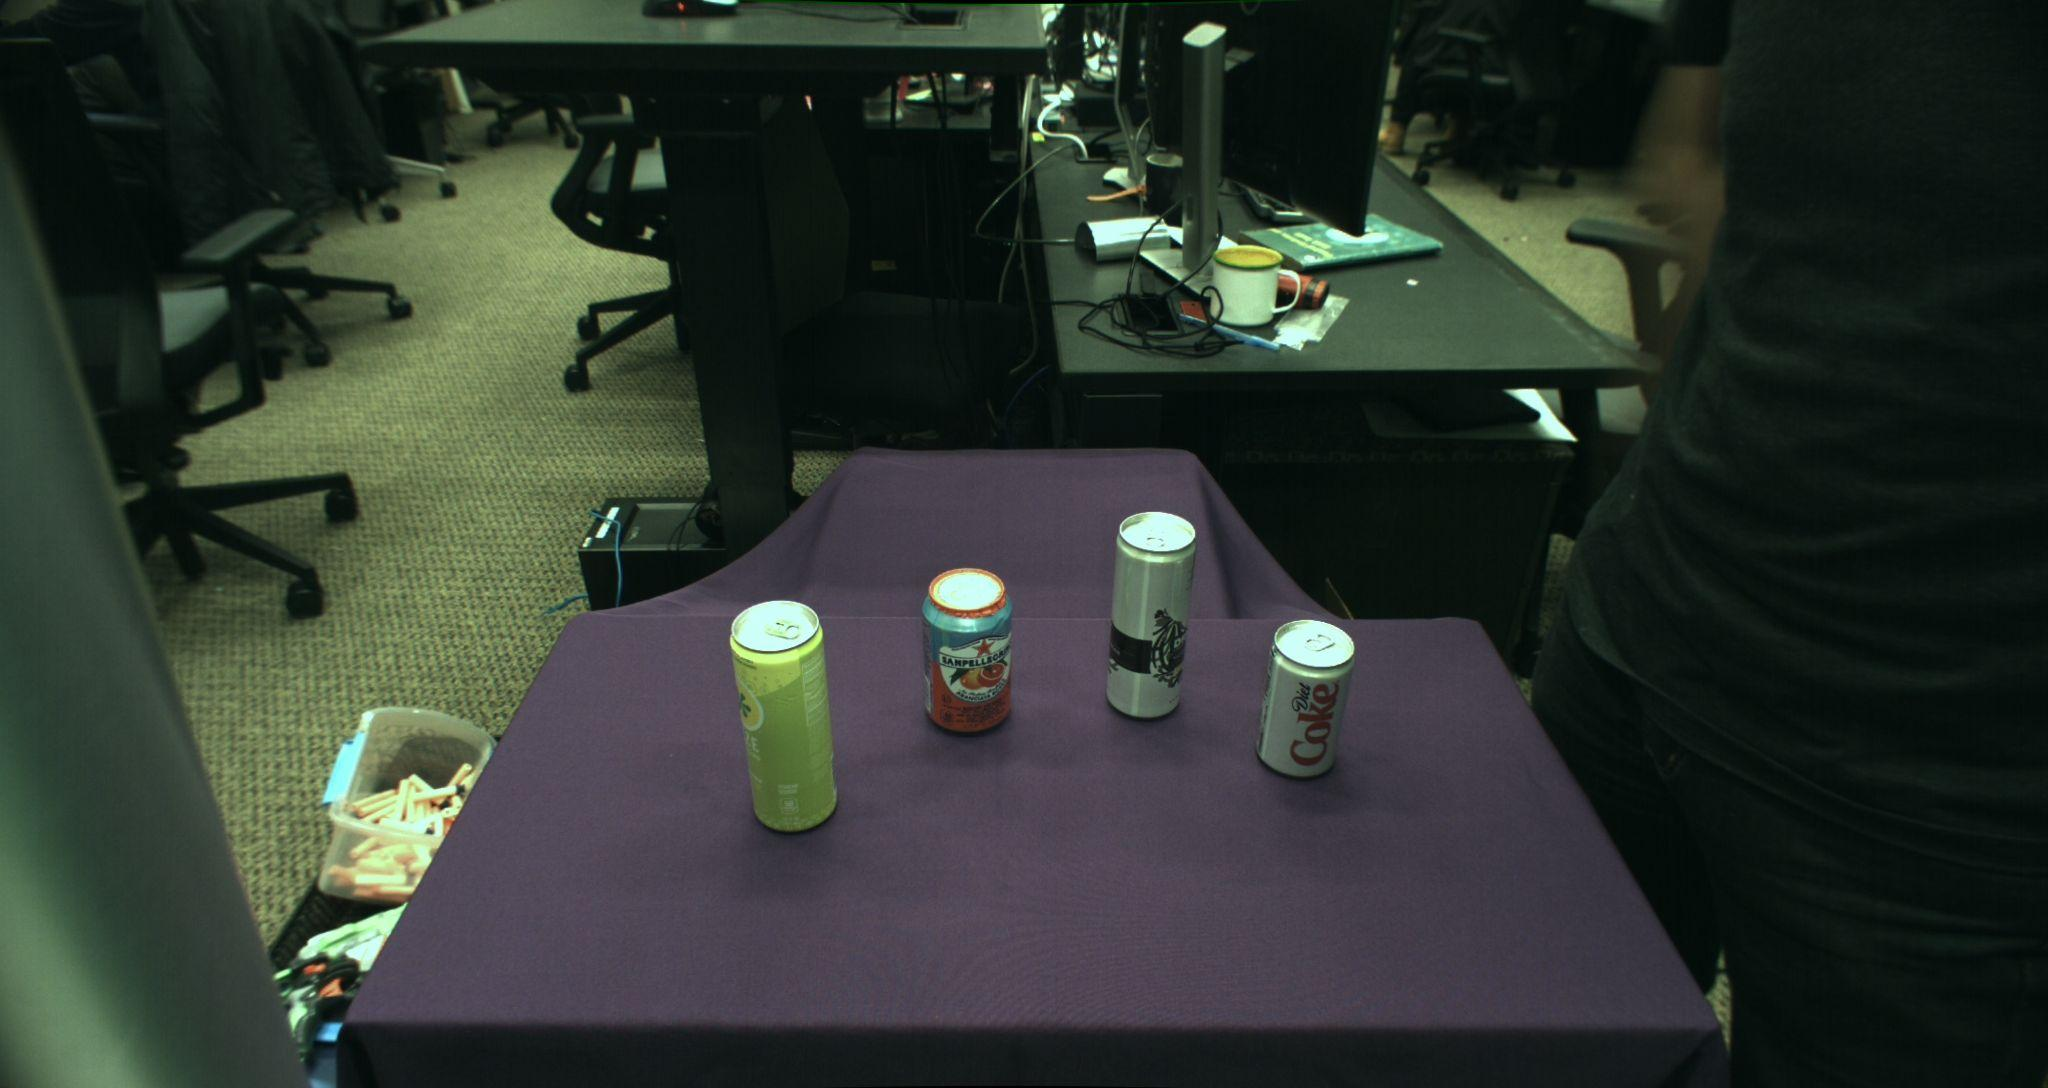can_diet_coke_small: (1254, 618, 1354, 778)
can_dry_sparkling_vanilla_bean: (1107, 511, 1197, 719)
can_izze_fusions_lemon_lime: (727, 600, 837, 833)
can_sanpellegrino_blood_orange: (922, 566, 1012, 734)
